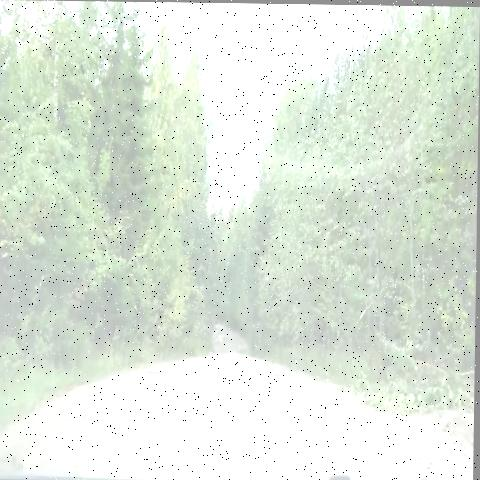pothole: (204, 405, 342, 480), (49, 390, 119, 435), (247, 349, 296, 396), (195, 374, 244, 416), (193, 355, 250, 388), (158, 377, 191, 422), (299, 383, 339, 415), (138, 358, 167, 384)
